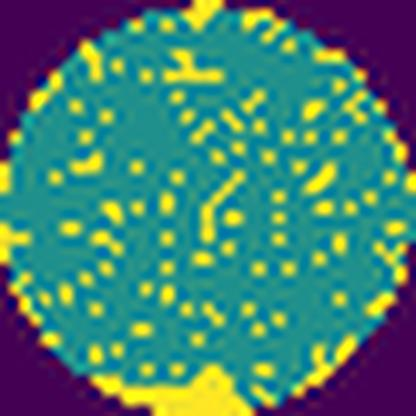Edge-Loc: (92, 361, 264, 416)
